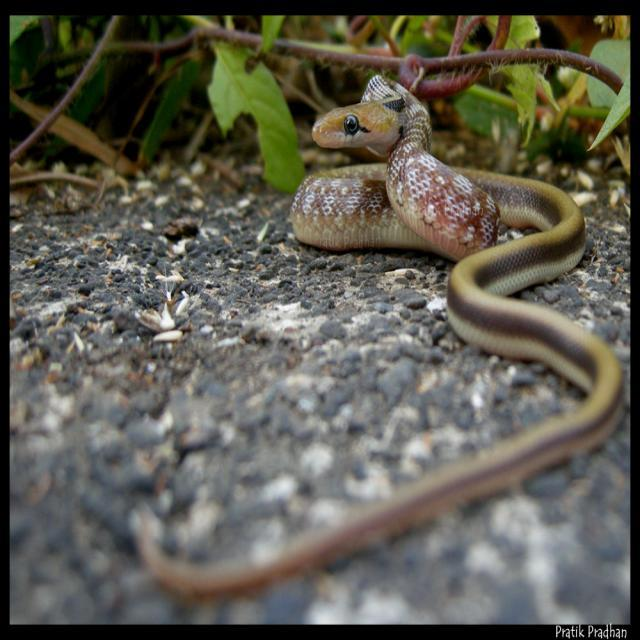Snake: (132, 72, 624, 598)
